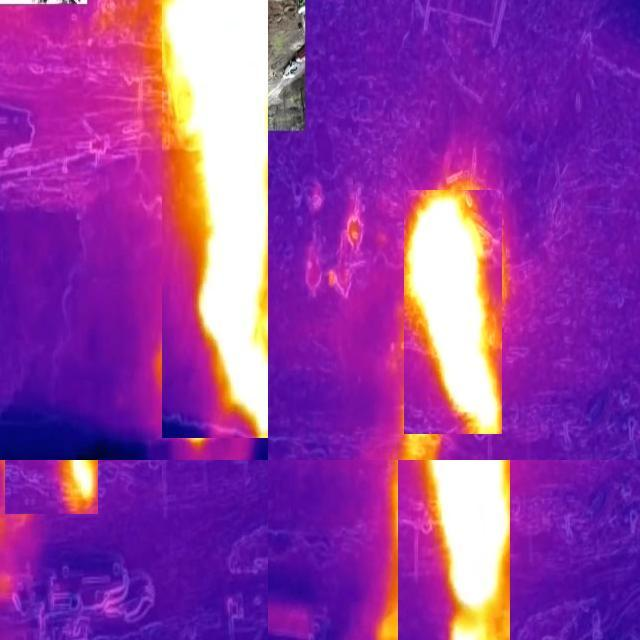fire: (162, 1, 269, 438), (404, 190, 502, 434), (398, 461, 510, 640)
